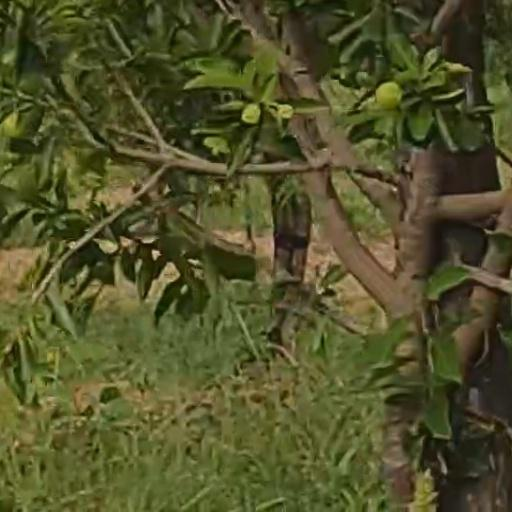acerola: (376, 82, 404, 110)
